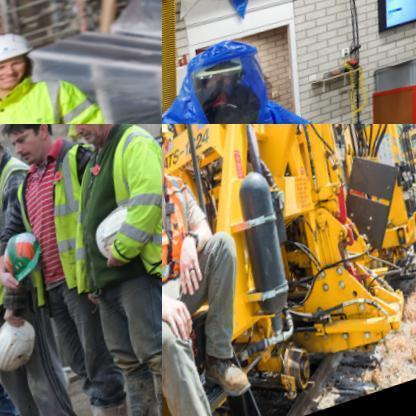Glass: (77, 123, 166, 297)
